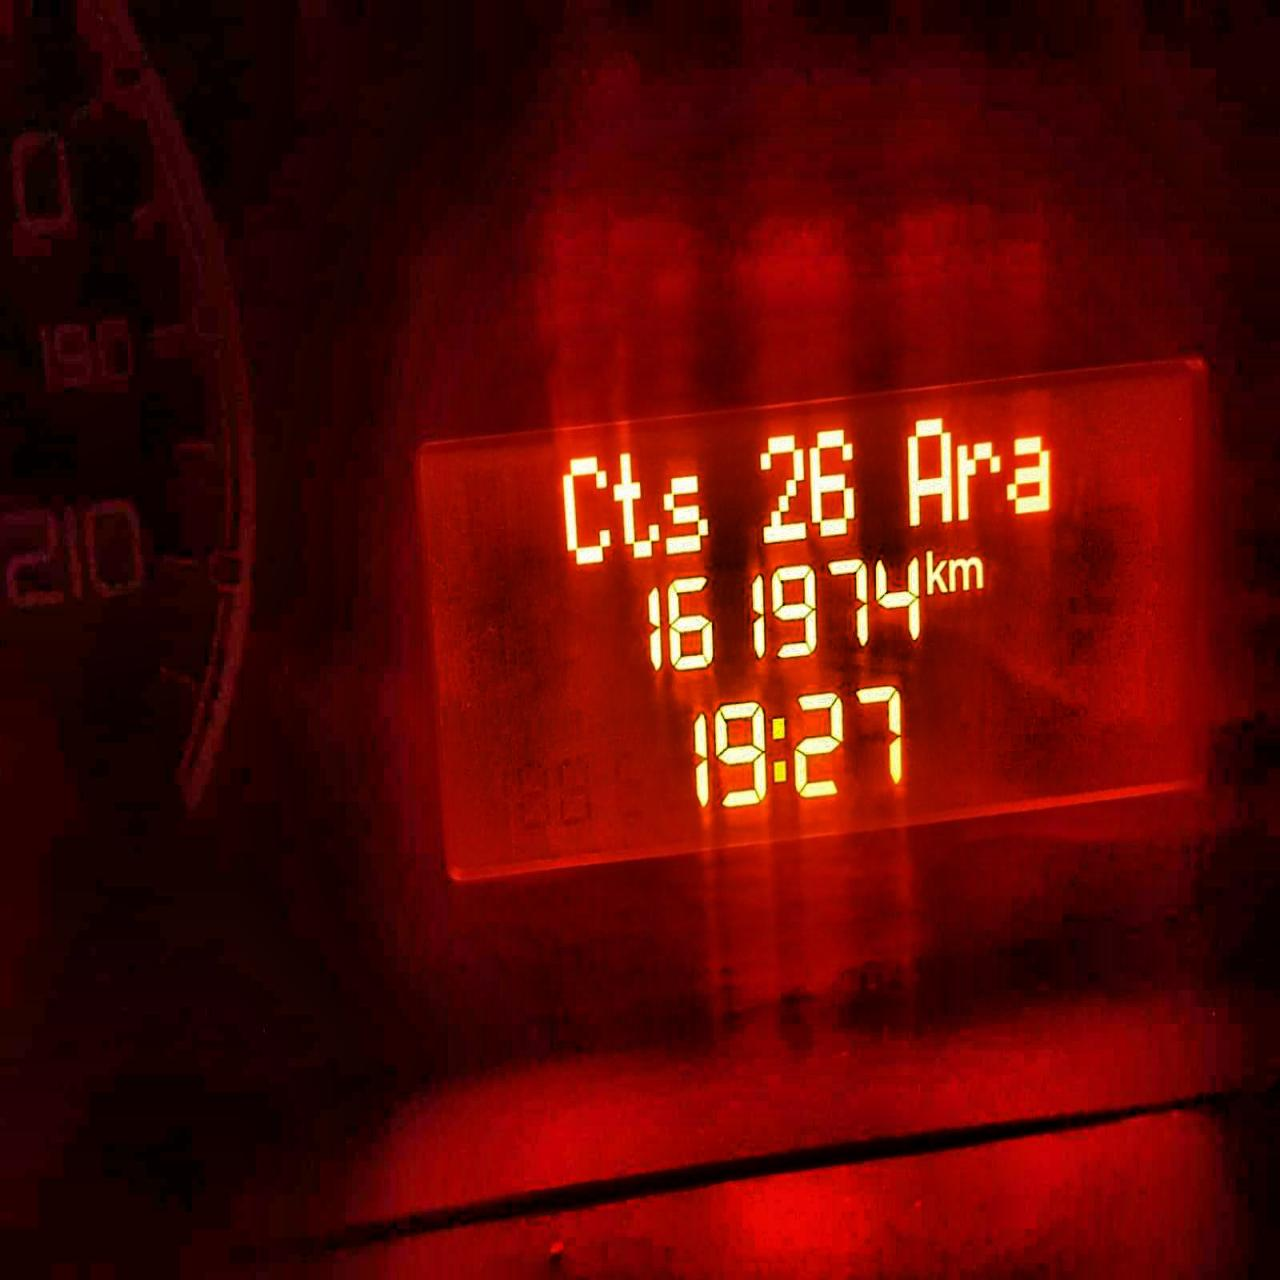1: (685, 694, 714, 812), (640, 576, 666, 674), (743, 570, 764, 662)
2: (754, 427, 811, 550), (792, 682, 842, 802)
4: (874, 550, 922, 647)
6: (811, 418, 860, 536), (666, 572, 720, 678)
7: (851, 673, 912, 795), (825, 549, 874, 655)
9: (712, 689, 764, 815), (769, 559, 822, 660)
X: (561, 448, 613, 576), (903, 409, 956, 531), (615, 442, 663, 565), (952, 431, 1002, 526), (662, 464, 712, 558), (1008, 422, 1051, 518), (767, 701, 791, 797), (948, 550, 981, 597), (921, 542, 948, 598)
odometer: (414, 346, 1201, 892)
